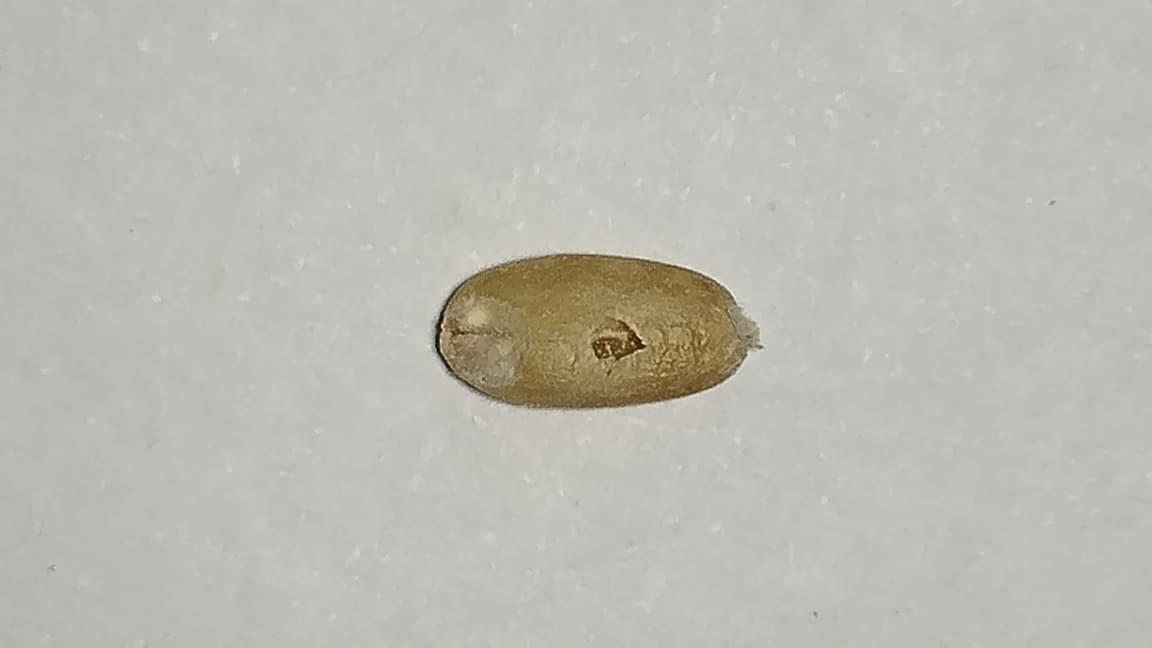damage: (436, 253, 762, 408)
insectdamage: (553, 305, 661, 390), (429, 297, 518, 389), (507, 323, 539, 353)
molddamage: (729, 290, 786, 368)
